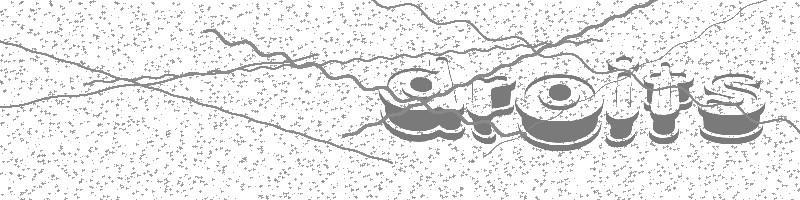d: (377, 53, 467, 145)
i: (604, 53, 643, 148)
o: (516, 67, 603, 151)
r: (465, 71, 518, 147)
s: (700, 63, 769, 147)
t: (642, 56, 696, 149)
